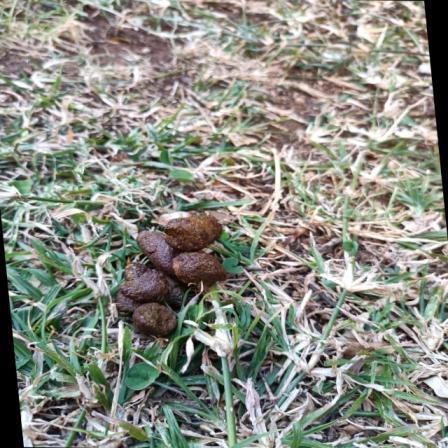dog-poop: (122, 205, 228, 346)
